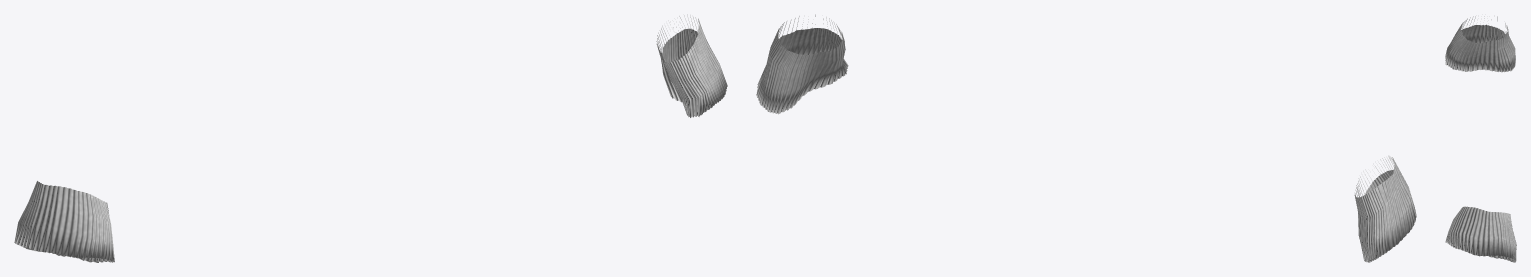
Rendered from Rukav.glb.
3 renders of one model, left to right at view 1: azimuth 30°, elevation 25°; view 2: azimuth 150°, elevation 25°; view 3: azimuth 270°, elevation 25°, orthographic. The views are drawn at different scales.
Visible parts, largest first — view 1: Rukav1; view 2: Rukav1; view 3: Rukav1.
Part boxes in pixels (x1,y1,x2,y2): Rukav1: [14, 14, 727, 262]; Rukav1: [756, 14, 1416, 262]; Rukav1: [1445, 16, 1516, 262].
Size of the model in its own units: 1.84 by 0.2335 by 0.2634.
1 material, 1 textured.
